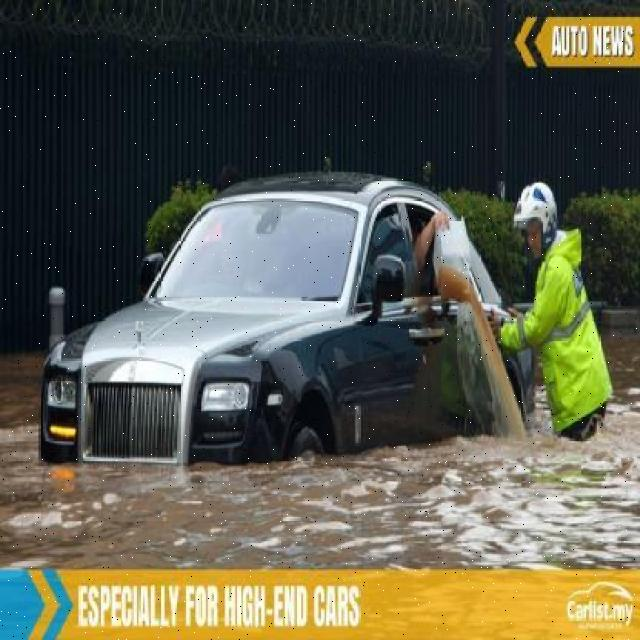rescuer: (502, 174, 619, 462)
